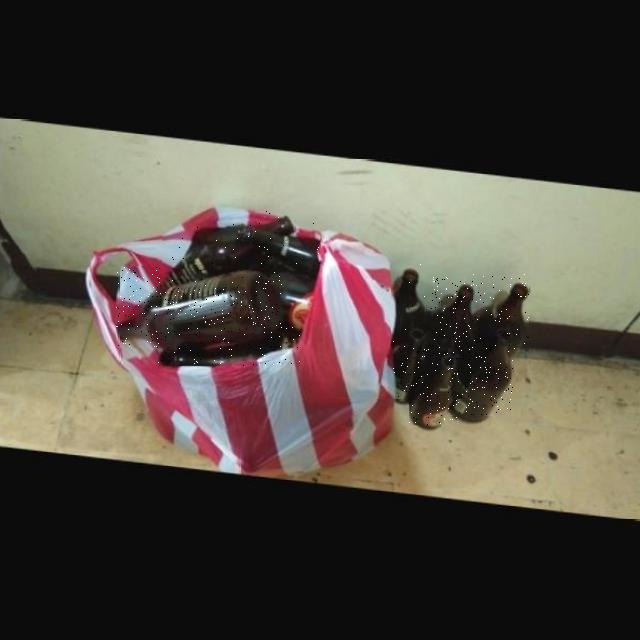glass: (117, 266, 282, 348), (449, 316, 513, 416), (163, 221, 254, 286), (159, 326, 300, 365), (474, 274, 529, 351), (239, 220, 320, 270), (409, 345, 457, 425), (431, 277, 475, 358), (392, 262, 426, 345), (393, 321, 426, 398), (255, 211, 295, 230)
